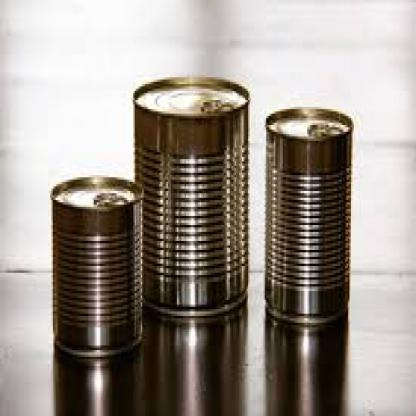METAL: (133, 75, 250, 321), (263, 105, 353, 328), (50, 175, 144, 361)
